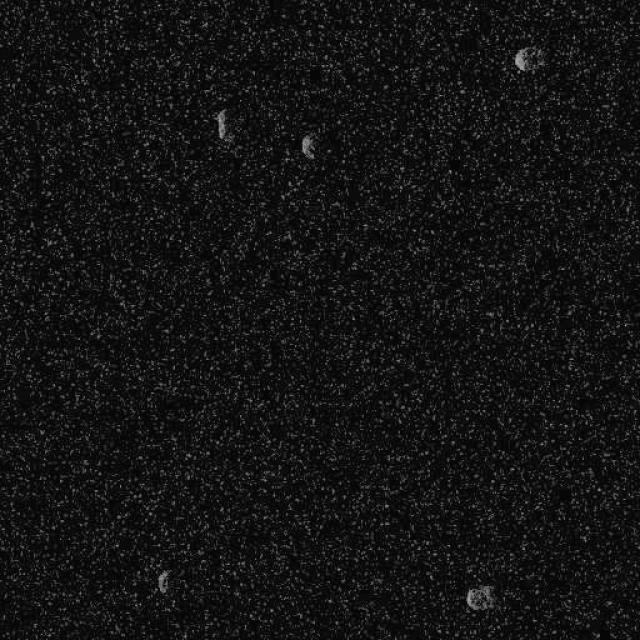D2: (512, 45, 546, 73), (465, 584, 496, 611), (300, 132, 316, 160), (214, 108, 228, 138), (156, 568, 170, 594)
